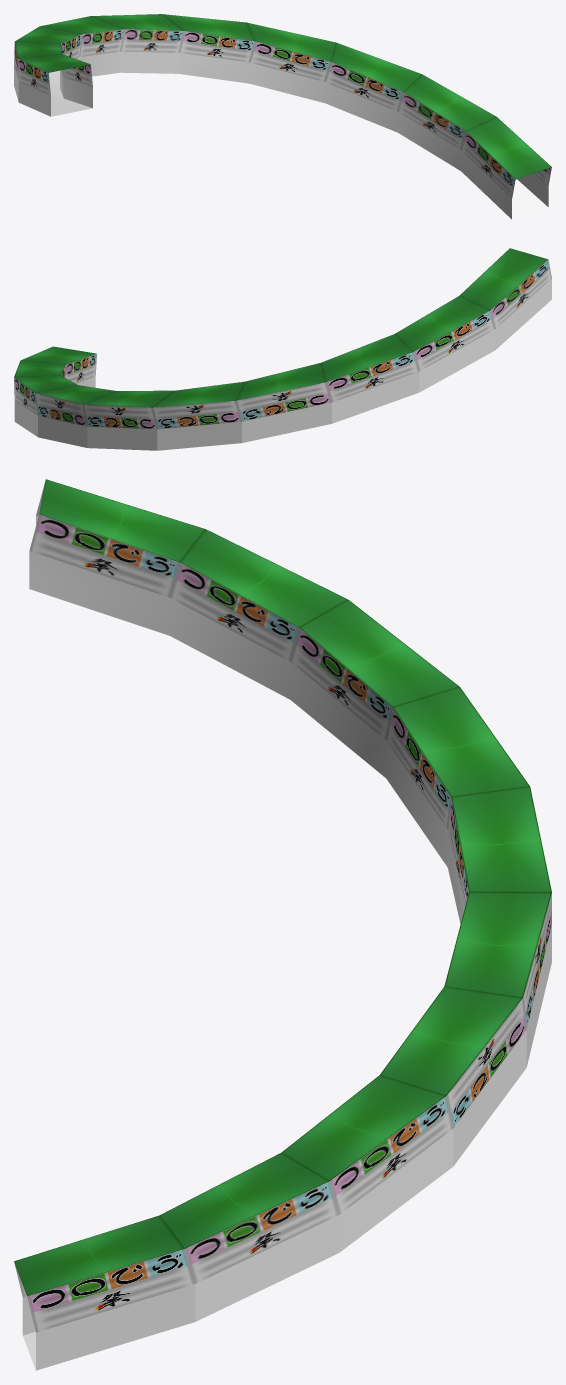
File: CourseWinter_Wall_R_10.fbx
3 views of the same model, one above another, from view 1: azimuth 30°, elevation 25°; view 2: azimuth 150°, elevation 25°; view 3: azimuth 270°, elevation 25° (orthographic). The views are drawn at different scales.
Visible parts, largest first — view 1: polySurface438; view 2: polySurface438; view 3: polySurface438.
Part boxes in pixels (bbox=[...]): polySurface438: bbox=[14, 14, 551, 219]; polySurface438: bbox=[14, 248, 551, 450]; polySurface438: bbox=[14, 479, 551, 1370].
Size of the model in its own units: 24.61 by 11.97 by 12.8.
Materials: 1 (1 with a texture image).
